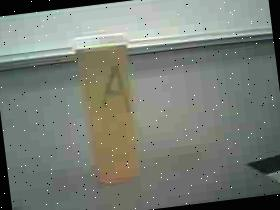Bottle A: (62, 21, 161, 195)
